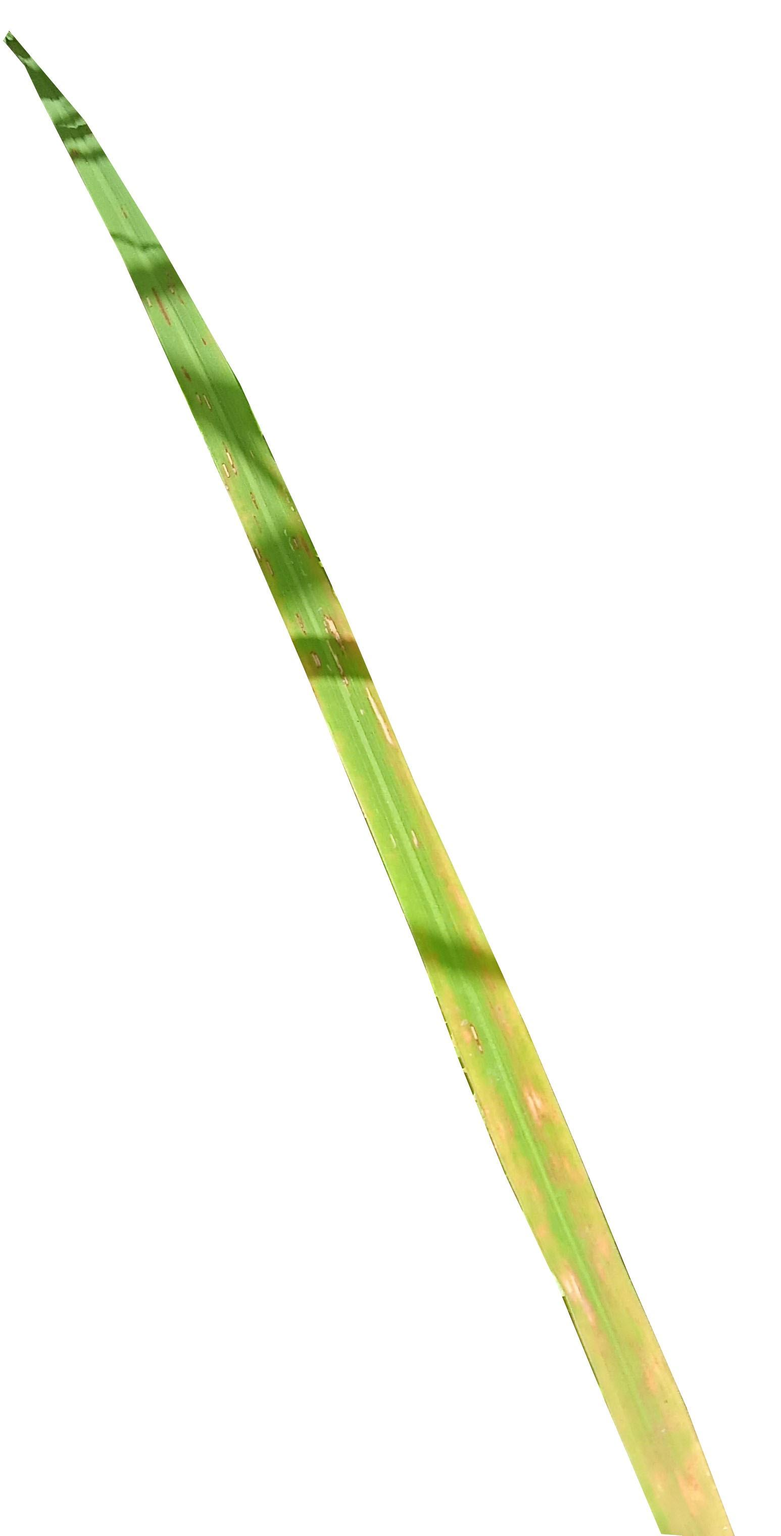Tungro: (8, 36, 737, 1536)
